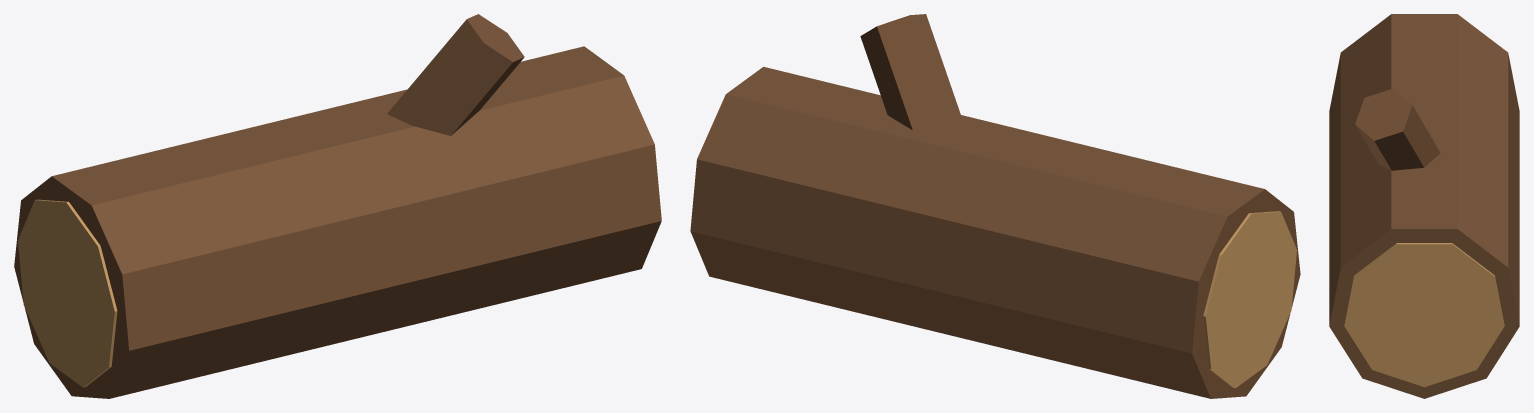
The model's file is resource_wood.glb.
3 views of the same model, side by side, from view 1: azimuth 30°, elevation 25°; view 2: azimuth 150°, elevation 25°; view 3: azimuth 270°, elevation 25° (orthographic). The views are drawn at different scales.
Visible parts, largest first — view 1: resource_wood; view 2: resource_wood; view 3: resource_wood.
Boxes of the visible parts, x1=… form: resource_wood: x1=14, y1=14, x2=661, y2=398; resource_wood: x1=690, y1=14, x2=1300, y2=398; resource_wood: x1=1329, y1=14, x2=1519, y2=398.
Size of the model in its own units: 1.02 by 0.5366 by 0.3742.
